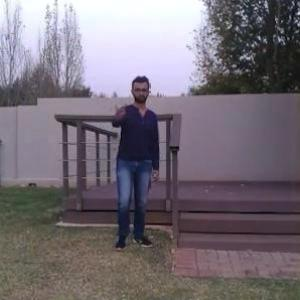takeoff-hand: (107, 96, 131, 122)
